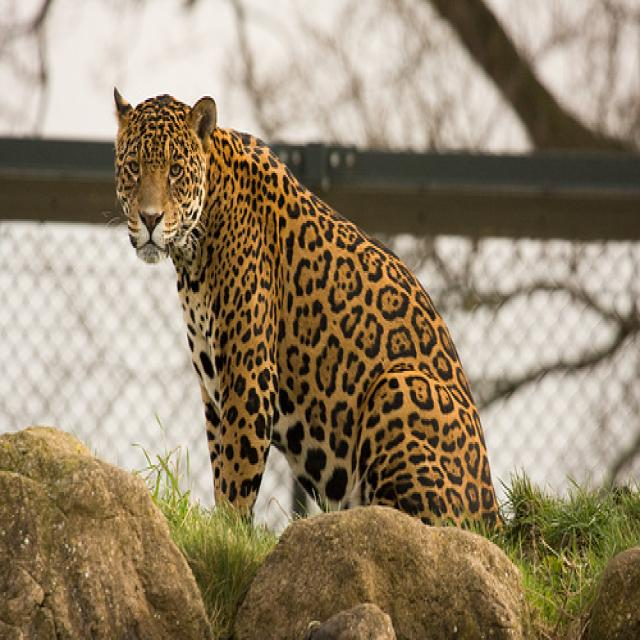Leopard: (95, 84, 503, 546)
